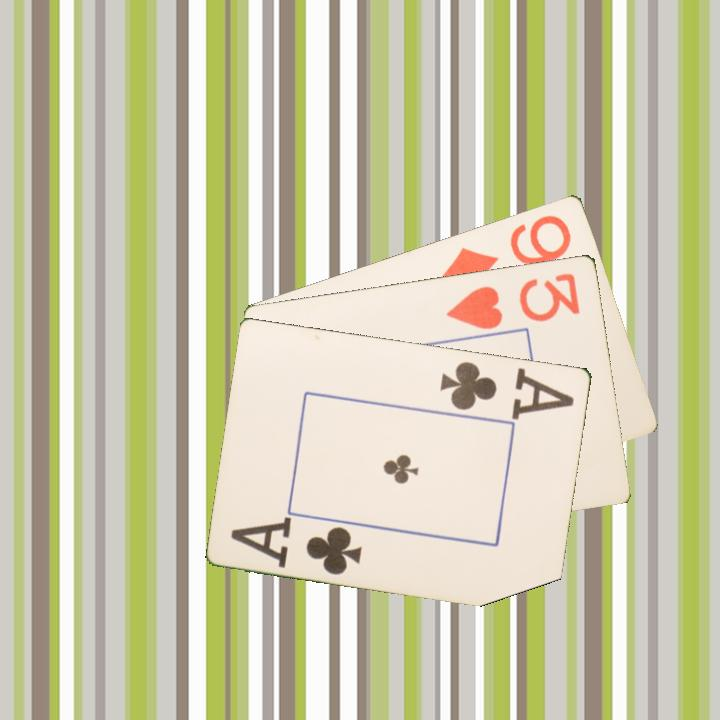3h: (443, 269, 583, 332)
9d: (437, 210, 575, 292)
Ac: (227, 514, 366, 578), (436, 357, 577, 420)
